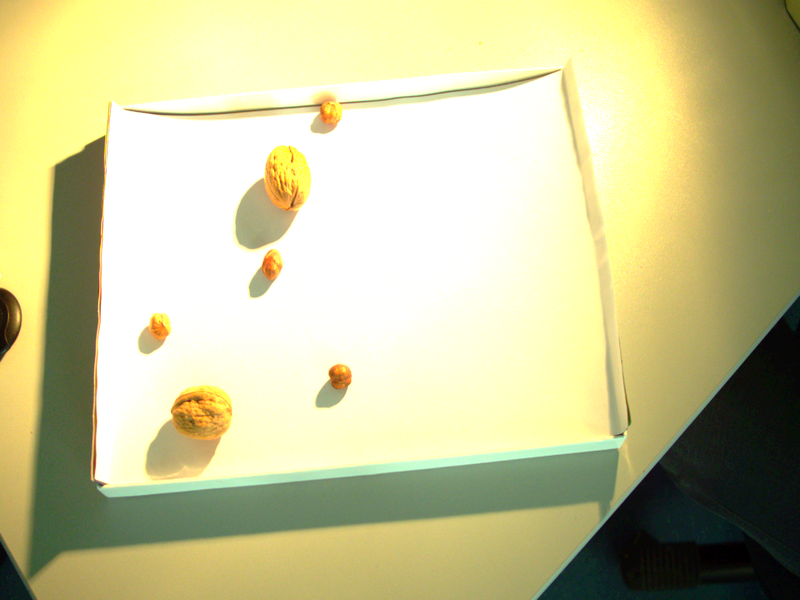walnut: (167, 381, 237, 445), (259, 142, 315, 213)
